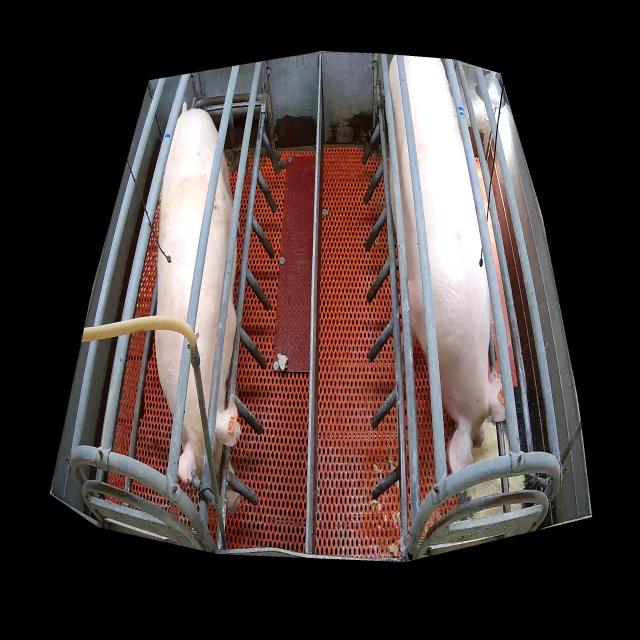pig: (388, 55, 507, 473), (153, 108, 242, 513)
